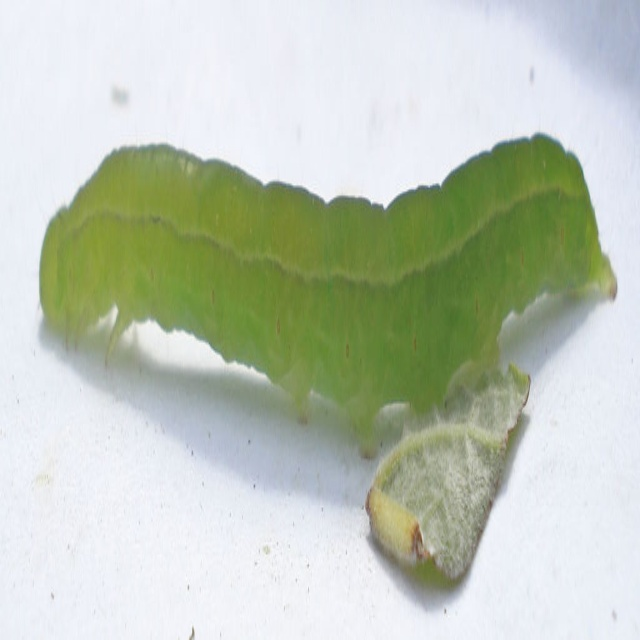Caterpillar: (35, 125, 618, 464)
